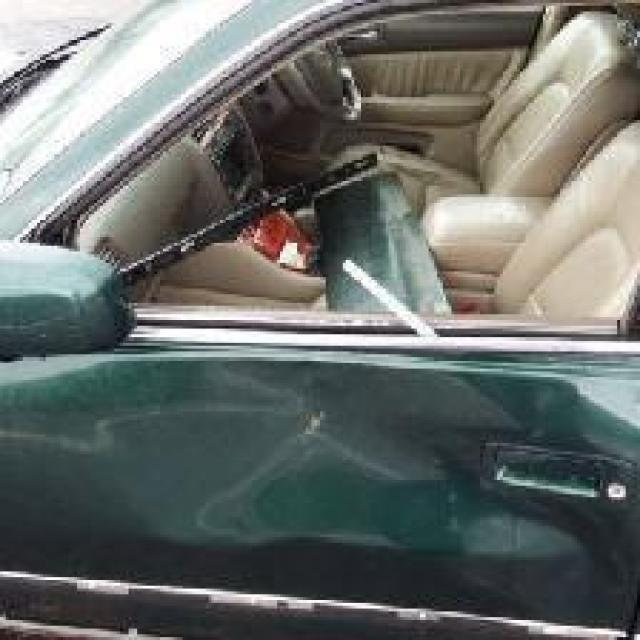damaged: (74, 6, 637, 346), (8, 374, 638, 583)
